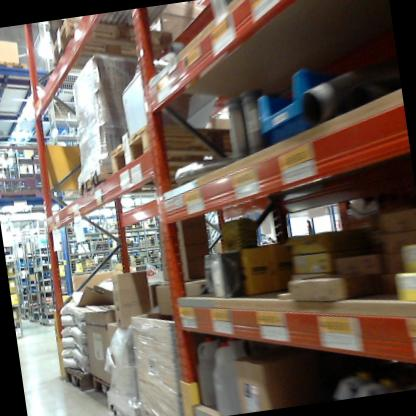pallet: (105, 111, 253, 200), (45, 4, 181, 99), (70, 134, 243, 203), (59, 360, 94, 398), (0, 52, 32, 82), (101, 393, 140, 416), (90, 372, 120, 398)
